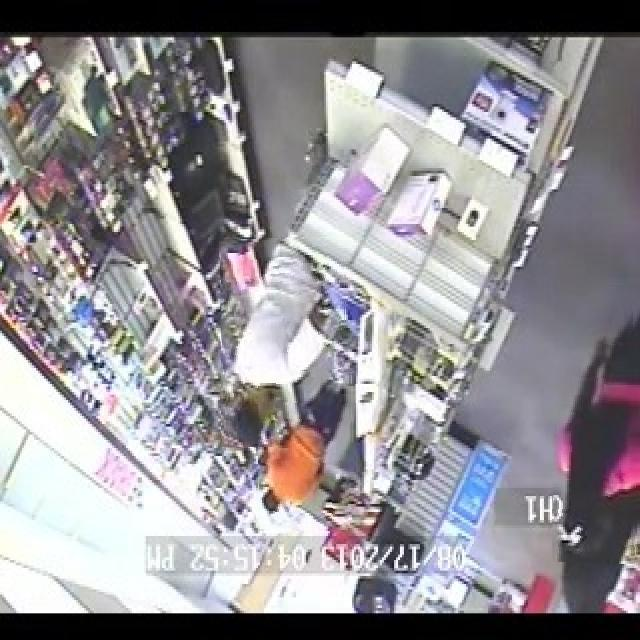normal: (221, 236, 347, 447), (554, 285, 640, 564), (258, 369, 354, 531)
